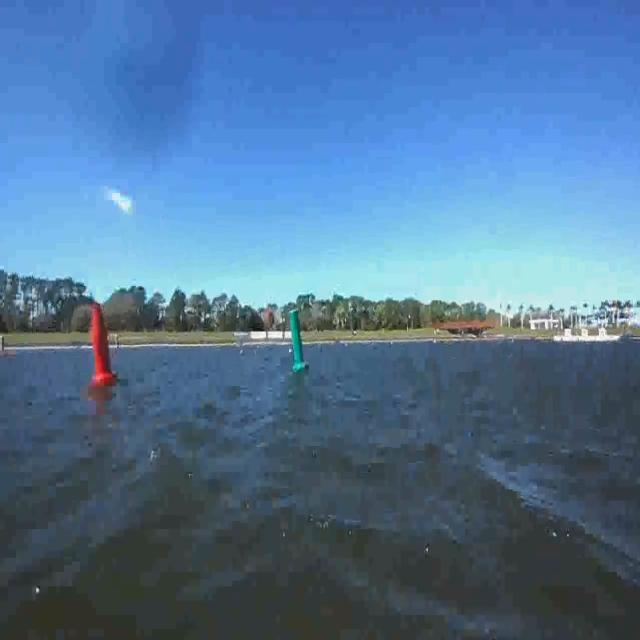green-column-buoy: (288, 310, 308, 372)
red-column-buoy: (90, 306, 116, 389)
